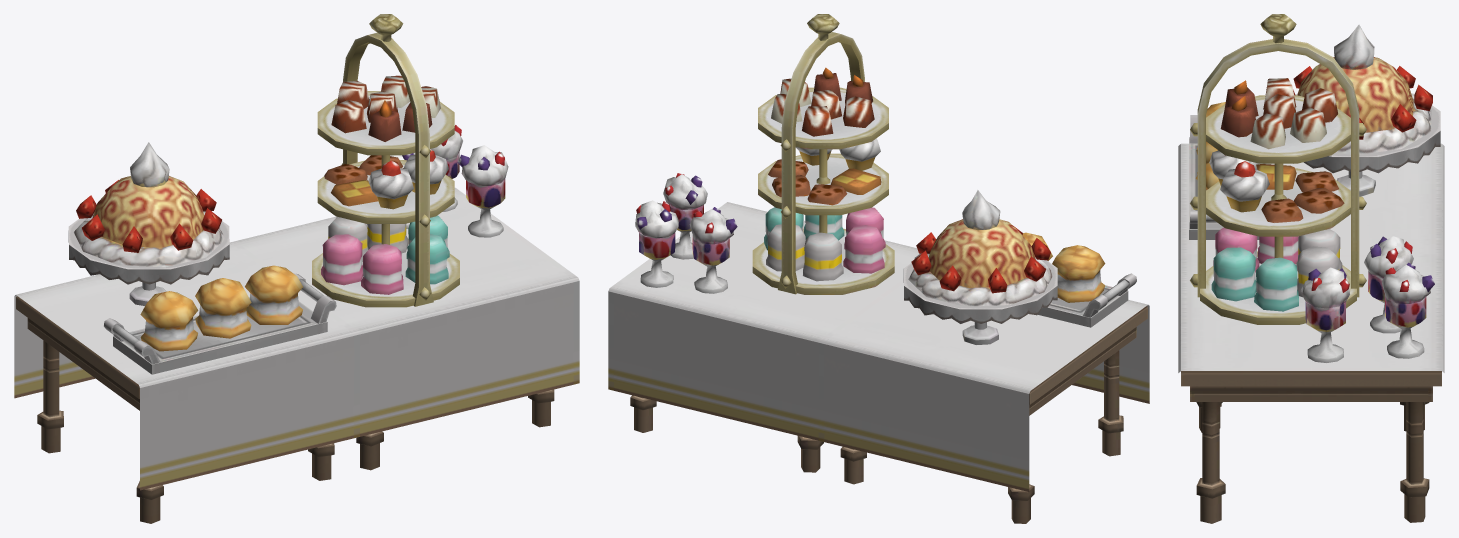
File: my_teaparty_01_table_07.glb
3 renders of one model, left to right at view 1: azimuth 30°, elevation 25°; view 2: azimuth 150°, elevation 25°; view 3: azimuth 270°, elevation 25°, orthographic. The views are drawn at different scales.
Visible parts, largest first — view 1: my_teaparty_01_table_07; view 2: my_teaparty_01_table_07; view 3: my_teaparty_01_table_07.
Part boxes in pixels (left/top/right/bottom): my_teaparty_01_table_07: left=14, top=14, right=579, bottom=523; my_teaparty_01_table_07: left=608, top=14, right=1149, bottom=523; my_teaparty_01_table_07: left=1178, top=14, right=1444, bottom=523.
Size of the model in its own units: 0.012 by 0.0107 by 0.00595.
Materials: 1 (1 with a texture image).
